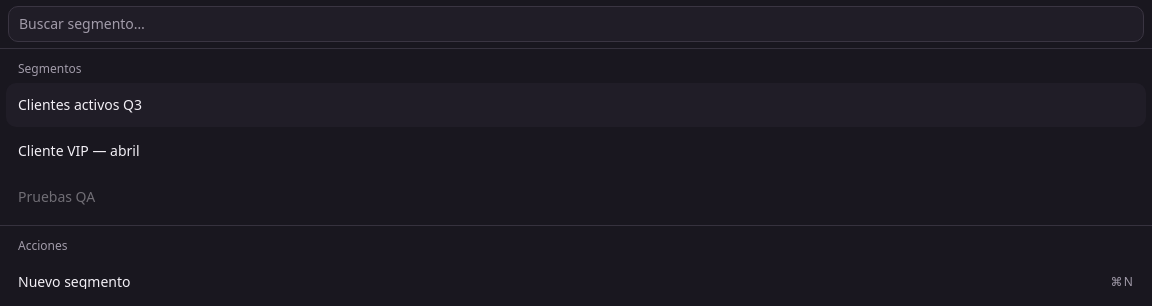
it: Command › filters items while typing
The width and height of the screenshot is (1152, 306).
Expected: the number of options is 4, [6,83,1146,127]; [18,141,140,160]; [18,187,95,206]; [18,272,1134,289]
Type "vip" into the dropdown at (576, 24), box [8,6,1144,42]
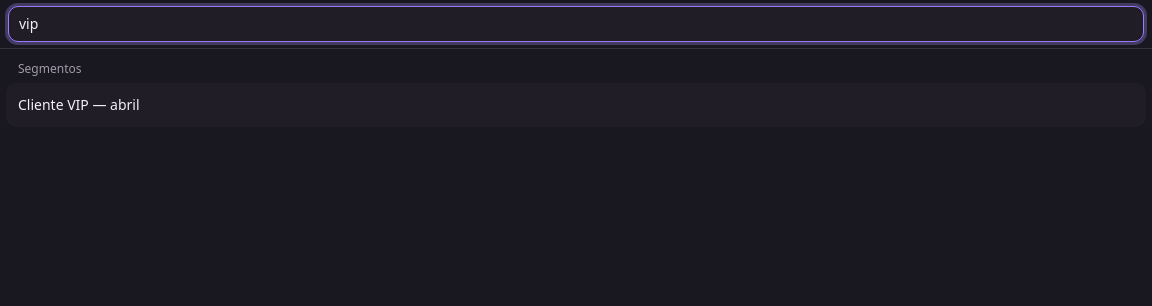
Expected: the option reads "Cliente VIP — abril", [6,83,1146,127]
Expected: the number of options is 1, [6,83,1146,127]
